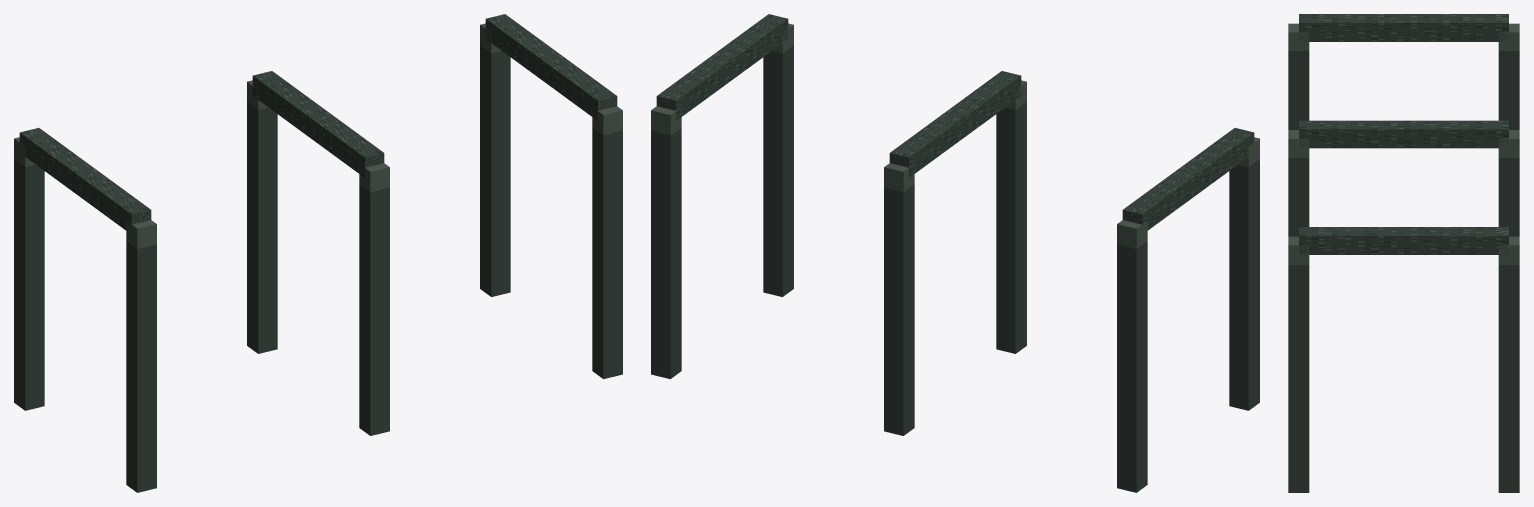
Rendered from bicycle_rack.gltf.
3 views of the same model, side by side, from view 1: azimuth 30°, elevation 25°; view 2: azimuth 150°, elevation 25°; view 3: azimuth 270°, elevation 25° (orthographic). The views are drawn at different scales.
Parts seen in each view (by area): view 1: upright (×6), top (×3); view 2: upright (×6), top (×3); view 3: upright (×6), top (×3).
Boxes of the visible parts, box(x1,y1,x2,y2) form: upright (×6): box(14, 23, 622, 492); top (×3): box(19, 14, 617, 232); upright (×6): box(651, 23, 1259, 492); top (×3): box(656, 14, 1254, 232); upright (×6): box(1288, 23, 1519, 492); top (×3): box(1299, 14, 1508, 254).
Bounding box in the file's own units: 1.56 × 0.8438 × 0.6875.
1 material, 1 textured.
